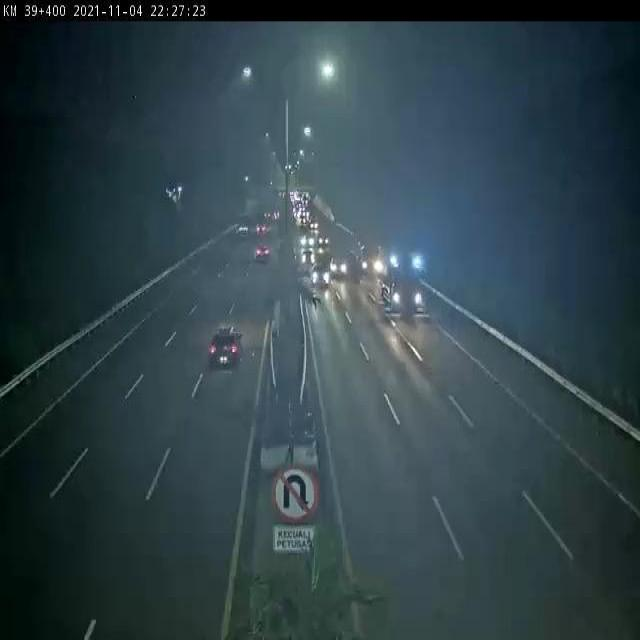car: (210, 328, 245, 369), (310, 261, 329, 288), (329, 252, 348, 275)
truck-l-: (381, 247, 426, 317)
truck-xl-: (350, 235, 380, 272)
